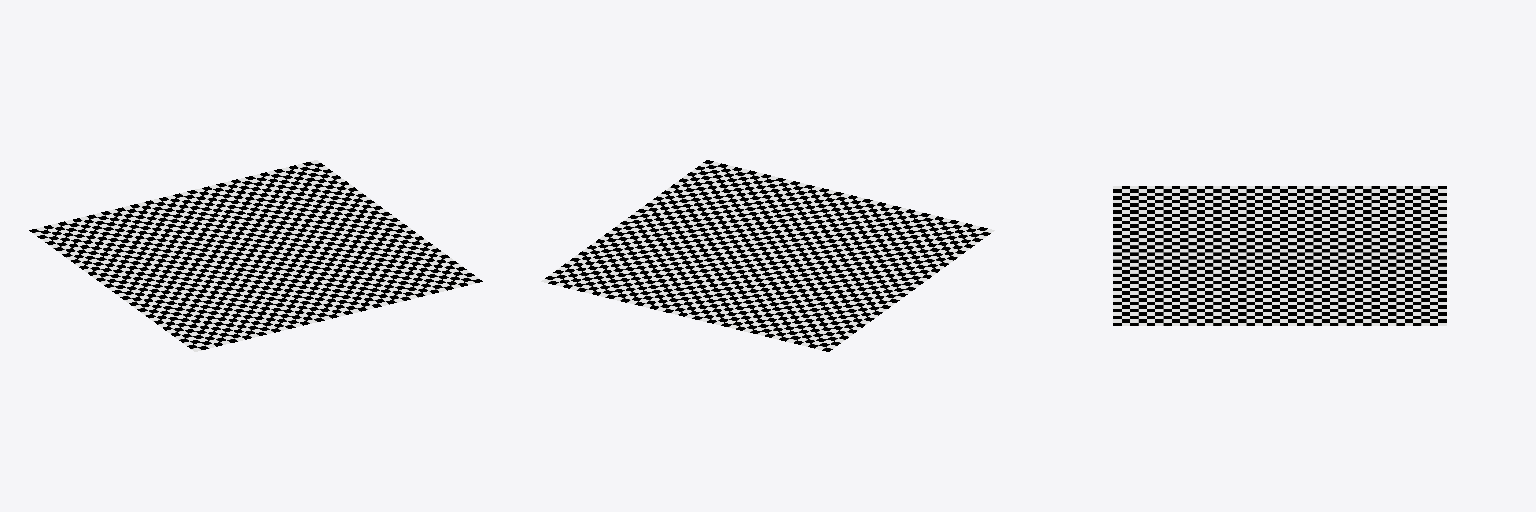
3 renders of one model, left to right at view 1: azimuth 30°, elevation 25°; view 2: azimuth 150°, elevation 25°; view 3: azimuth 270°, elevation 25°, orthographic.
Visible parts, largest first — view 1: Plane; view 2: Plane; view 3: Plane.
Boxes of the visible parts, box(x1,y1,x2,y2) form: Plane: box(29, 160, 482, 351); Plane: box(541, 160, 994, 351); Plane: box(1113, 186, 1446, 325).
Bounding box in the file's own units: 20 × 0 × 20.
1 materials, 1 textured.